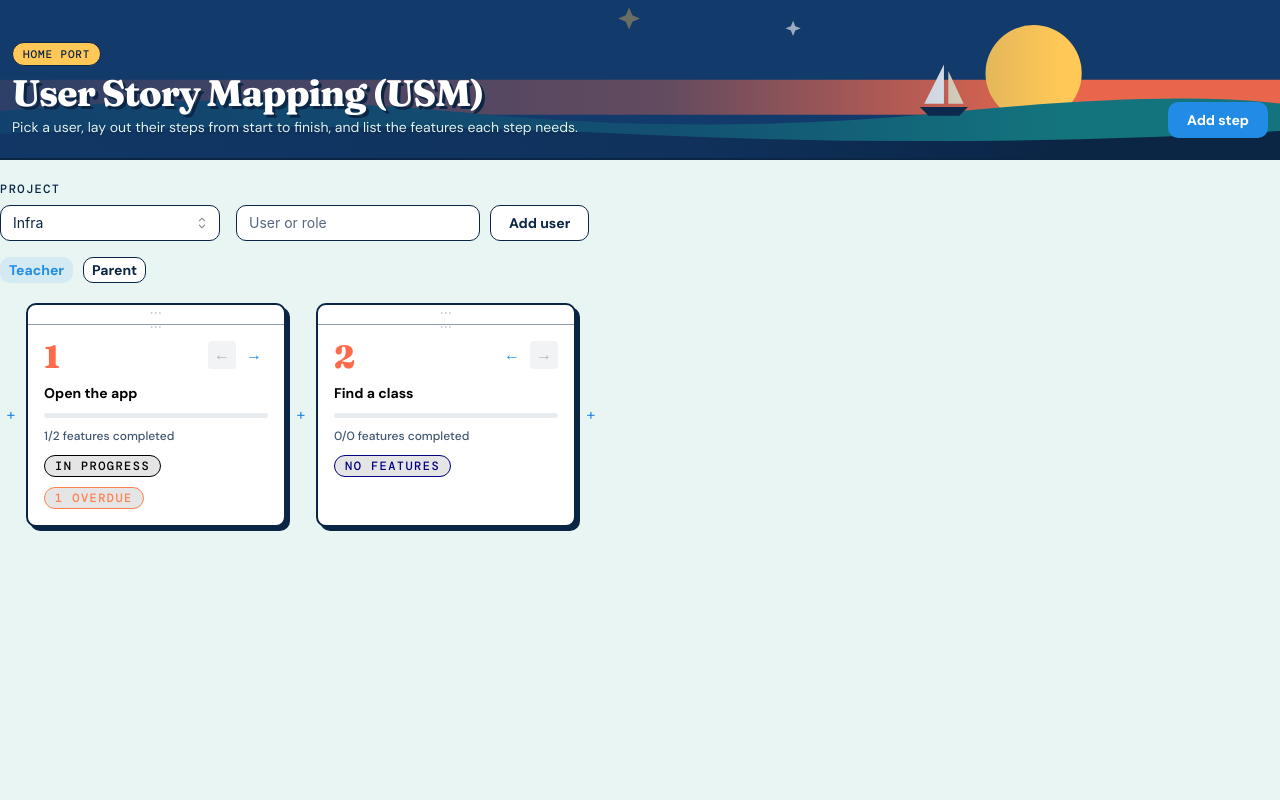
Test case: User Story Mapping as a team member › can add users, add and insert steps, and add features, but not delete
Check: the button "Add user" is shown, box [490,205,590,241]
Check: the button "Add step" is shown, box [1168,102,1268,138]
Click the button with aria-label "Step 1: Open the app": (156, 415) [26,303,286,527]
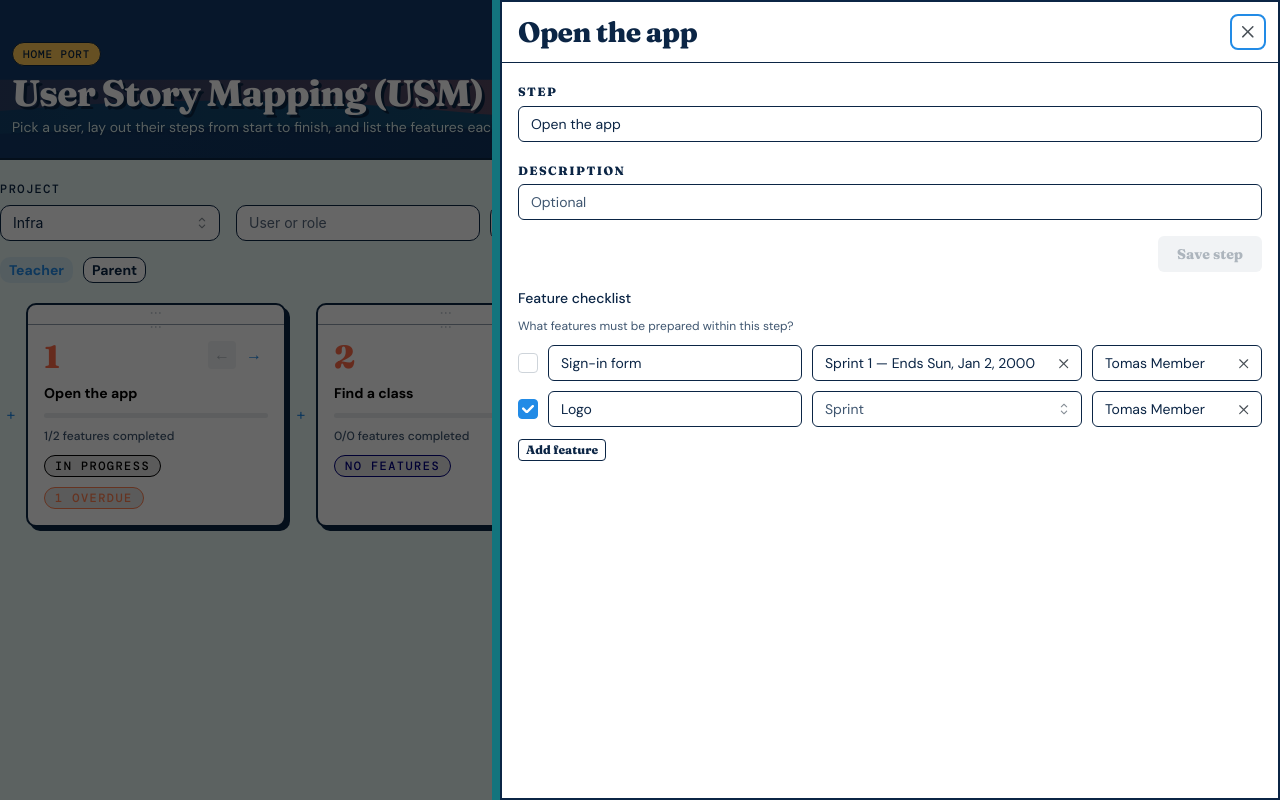
Check: the button "Add feature" is shown, box [518,439,606,461]
Check: the button "Save step" is shown, box [1158,236,1262,272]
